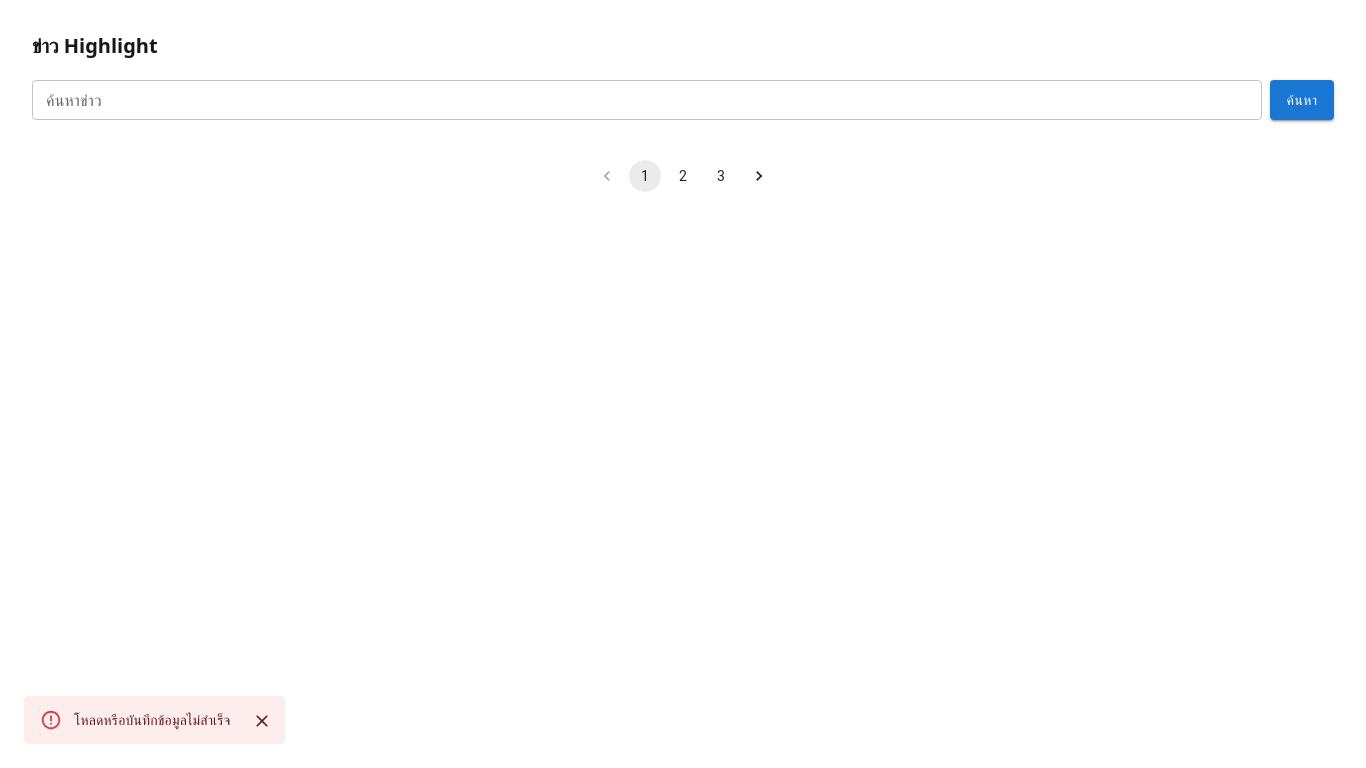
Test: NewsBulletinManager › shows a failed bulletins load and retries when a new search is submitted
The image size is (1366, 768).
Expected: the message reads "โหลดหรือบันทึกข้อมูลไม่สำเร็จ", [74,712,231,728]
Expected: the text "First news" is not shown
In the field labelled "ค้นหาข่าว": (647, 100) [32,80,1262,120], type "retry"
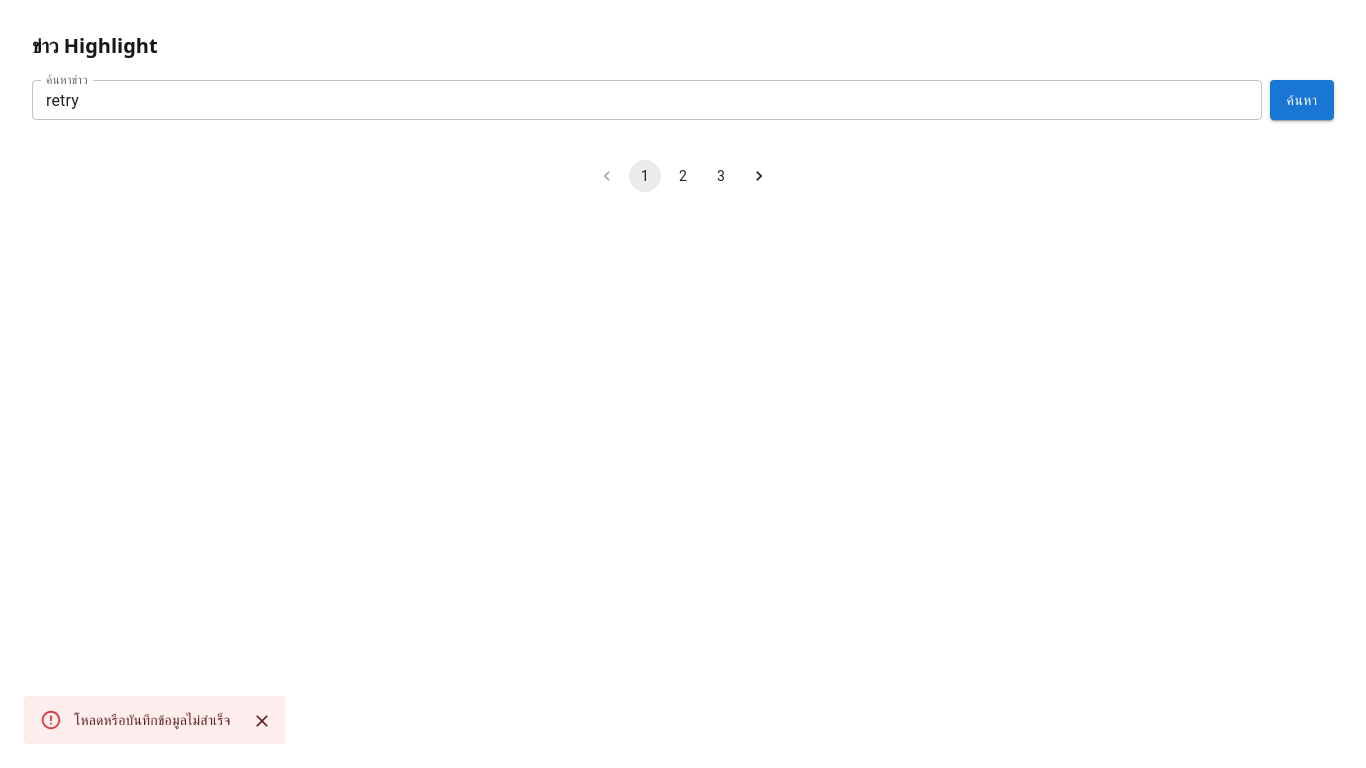
Click the button "ค้นหา": (1302, 100) [1270,80,1334,120]
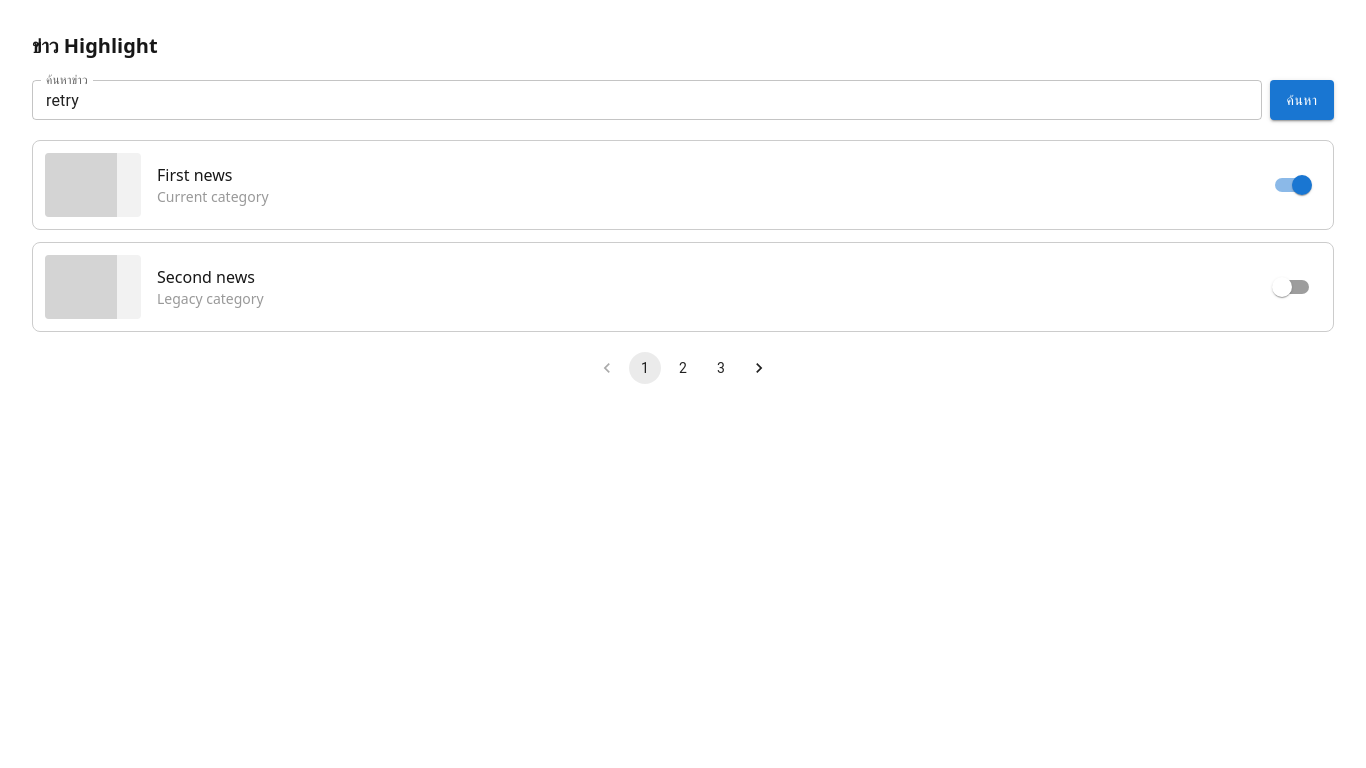
Expected: the text "First news" is shown, [157,164,232,186]
